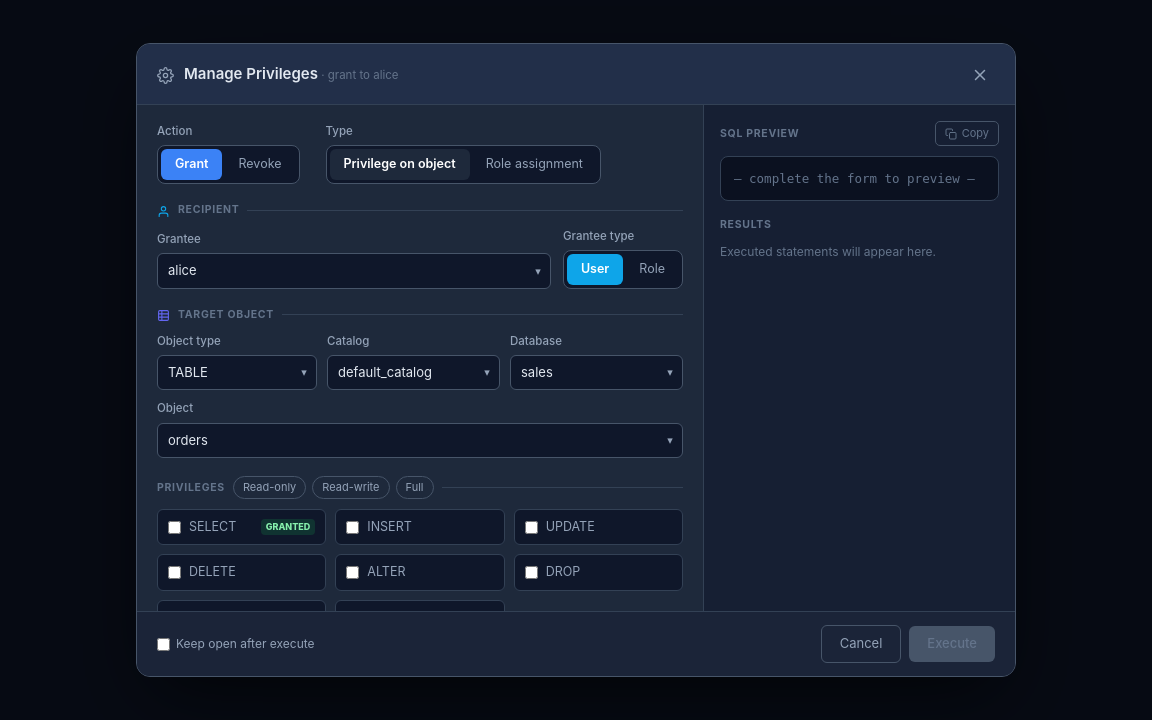
Scenario: ManagePrivilegesModal › does not flag privileges as granted while the object field is empty (ignores db-wide grants)
The image size is (1152, 720).
Expected: the text "GRANTED" is shown, [261,519,315,535]
Note: empty the object → the db-wide INSERT must NOT leak in as granted
Clear the field with test id "mp-name". click: x=420, y=440
box: [157,423,683,458]
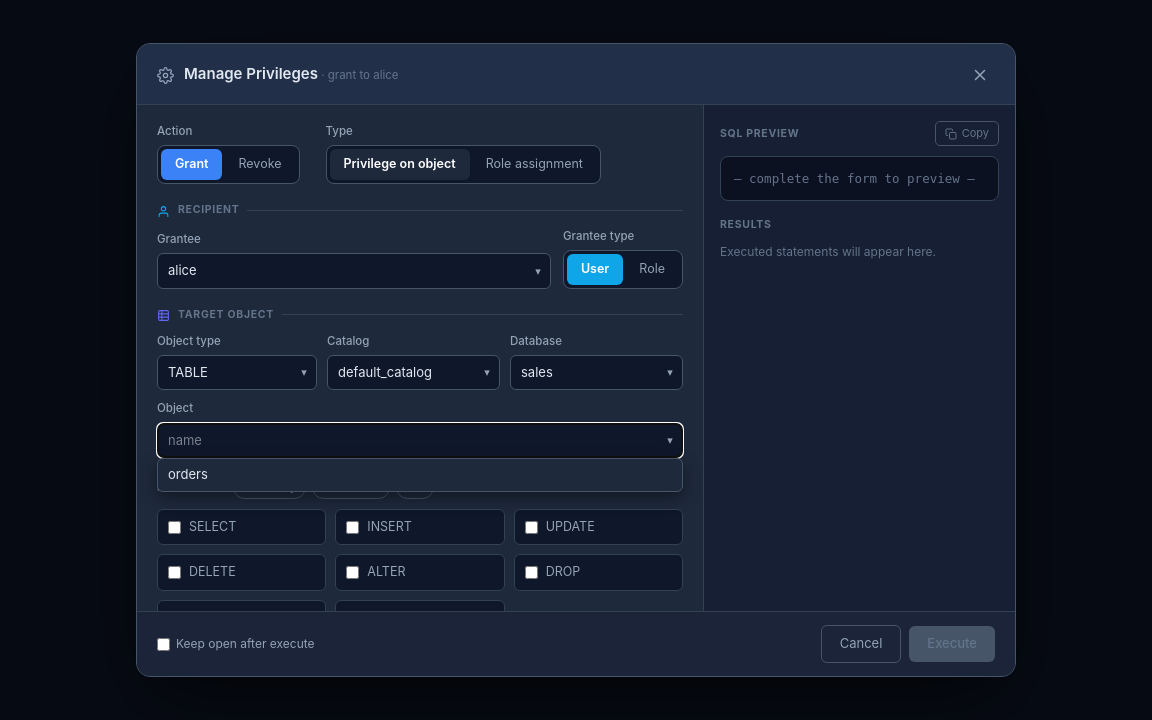
Expected: the text with test id "mp-already-granted" is gone
